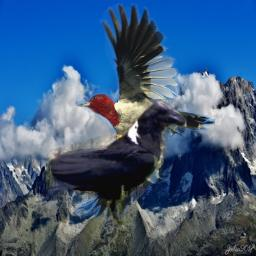Crow: (46, 99, 187, 225)
Woodpecker: (76, 3, 215, 220)
